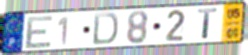1: (57, 16, 69, 46)
2: (164, 9, 187, 43)
8: (126, 9, 150, 45)
D: (91, 12, 120, 47)
E: (24, 14, 56, 50)
T: (197, 7, 219, 41)
